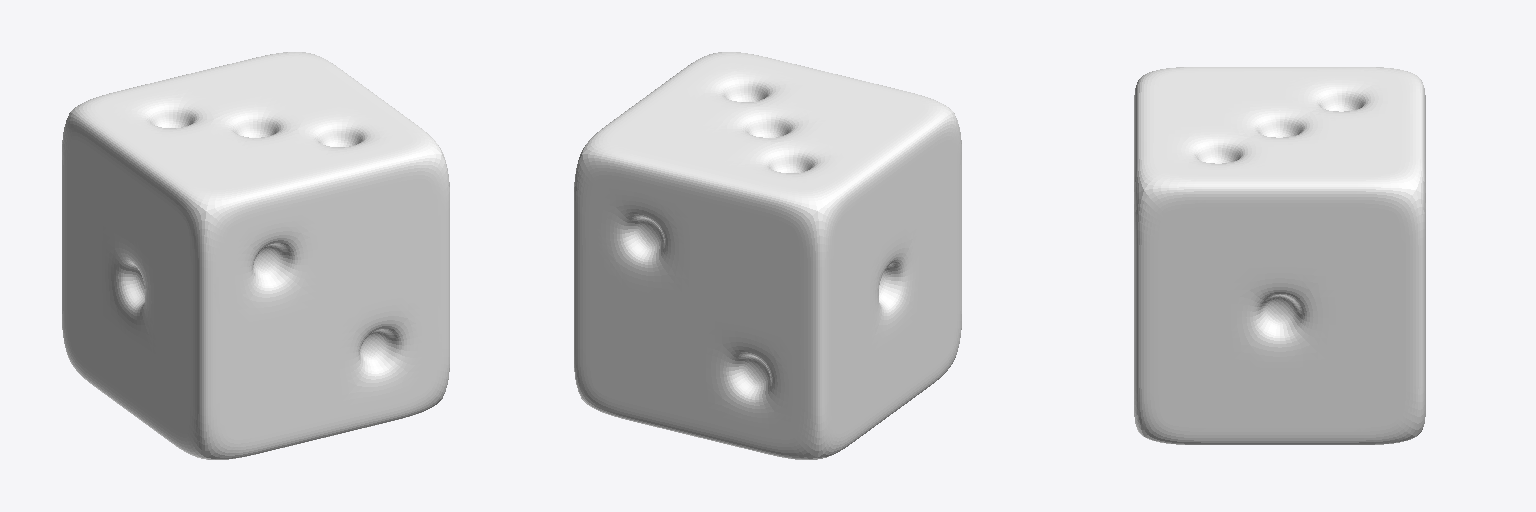
The model's file is Die.obj.
The picture shows the model from 3 angles: view 1: azimuth 30°, elevation 25°; view 2: azimuth 150°, elevation 25°; view 3: azimuth 270°, elevation 25°; orthographic projection.
Parts seen in each view (by area): view 1: Box001; view 2: Box001; view 3: Box001.
Boxes of the visible parts, x1,y1,x2,y2 form: Box001: [62, 52, 449, 459]; Box001: [574, 52, 961, 459]; Box001: [1134, 67, 1425, 444].
Size of the model in its own units: 25 by 25 by 25.